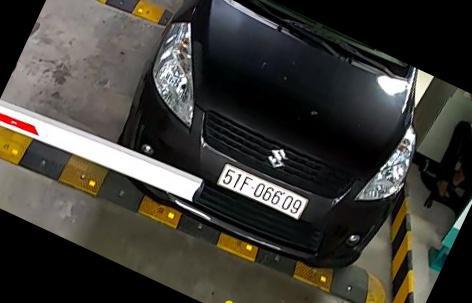License_Plate: (214, 158, 307, 222)
